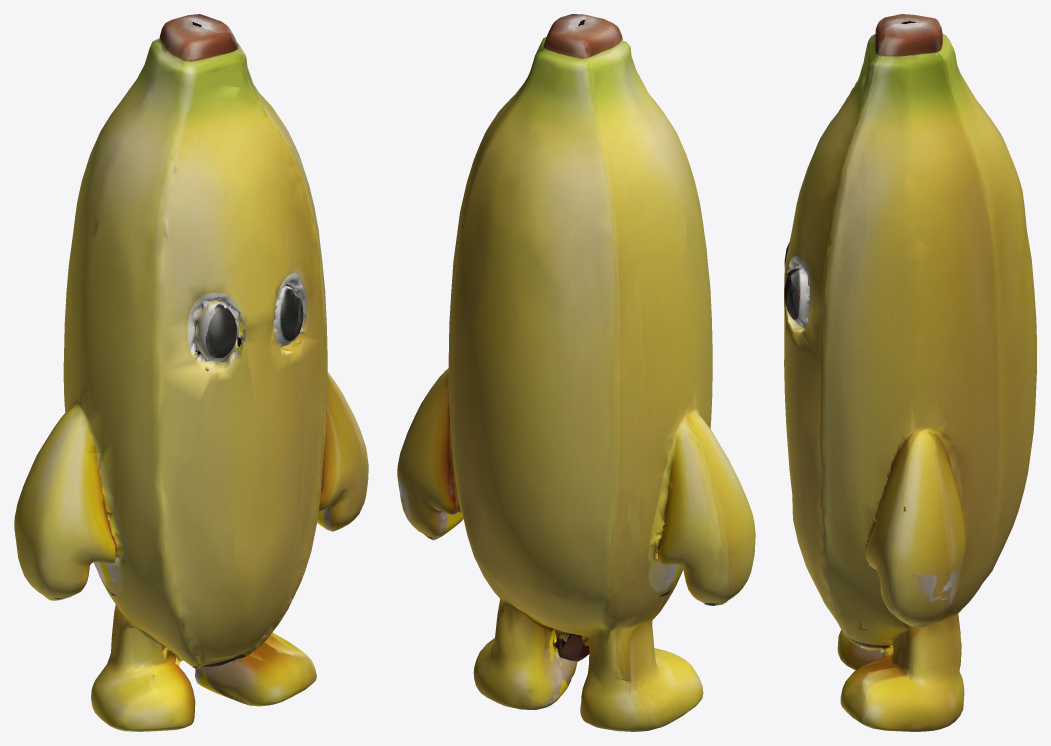
File: banana.glb
The picture shows the model from 3 angles, left to right: view 1: azimuth 30°, elevation 25°; view 2: azimuth 150°, elevation 25°; view 3: azimuth 270°, elevation 25°; orthographic projection.
Parts seen in each view (by area): view 1: Body; view 2: Body; view 3: Body.
Boxes of the visible parts, x1=… form: Body: x1=14, y1=14, x2=368, y2=731; Body: x1=397, y1=14, x2=755, y2=731; Body: x1=784, y1=14, x2=1036, y2=731.
Bounding box in the file's own units: 0.5146 × 0.9927 × 0.3402.
Materials: 1 (1 with a texture image).
